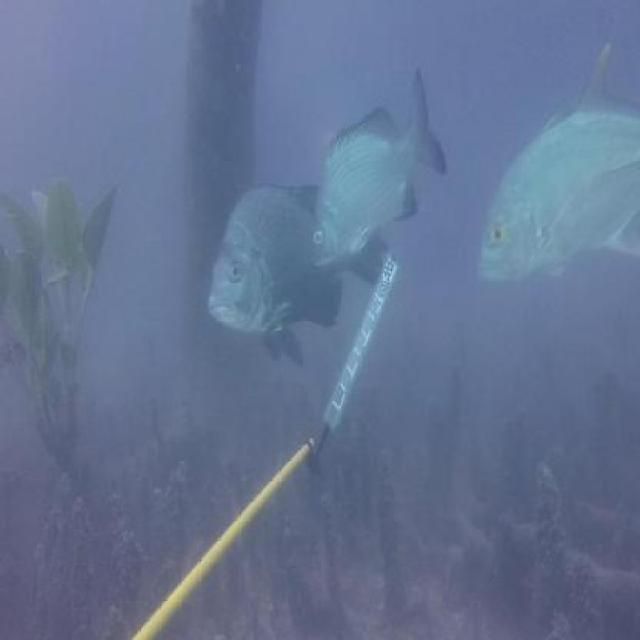Caranx: (474, 34, 640, 288)
acanthopagrus_palmaris: (206, 179, 386, 370), (309, 64, 449, 268)
